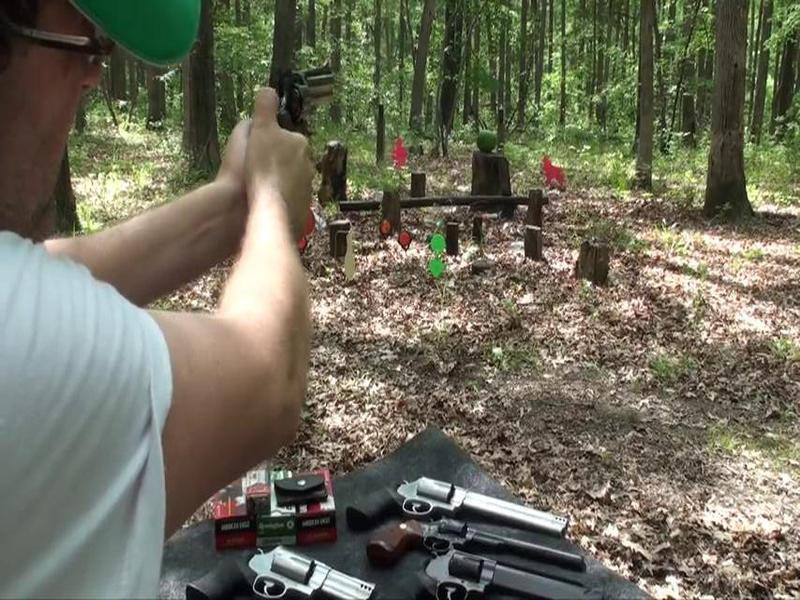Revolver: (238, 40, 341, 165)
